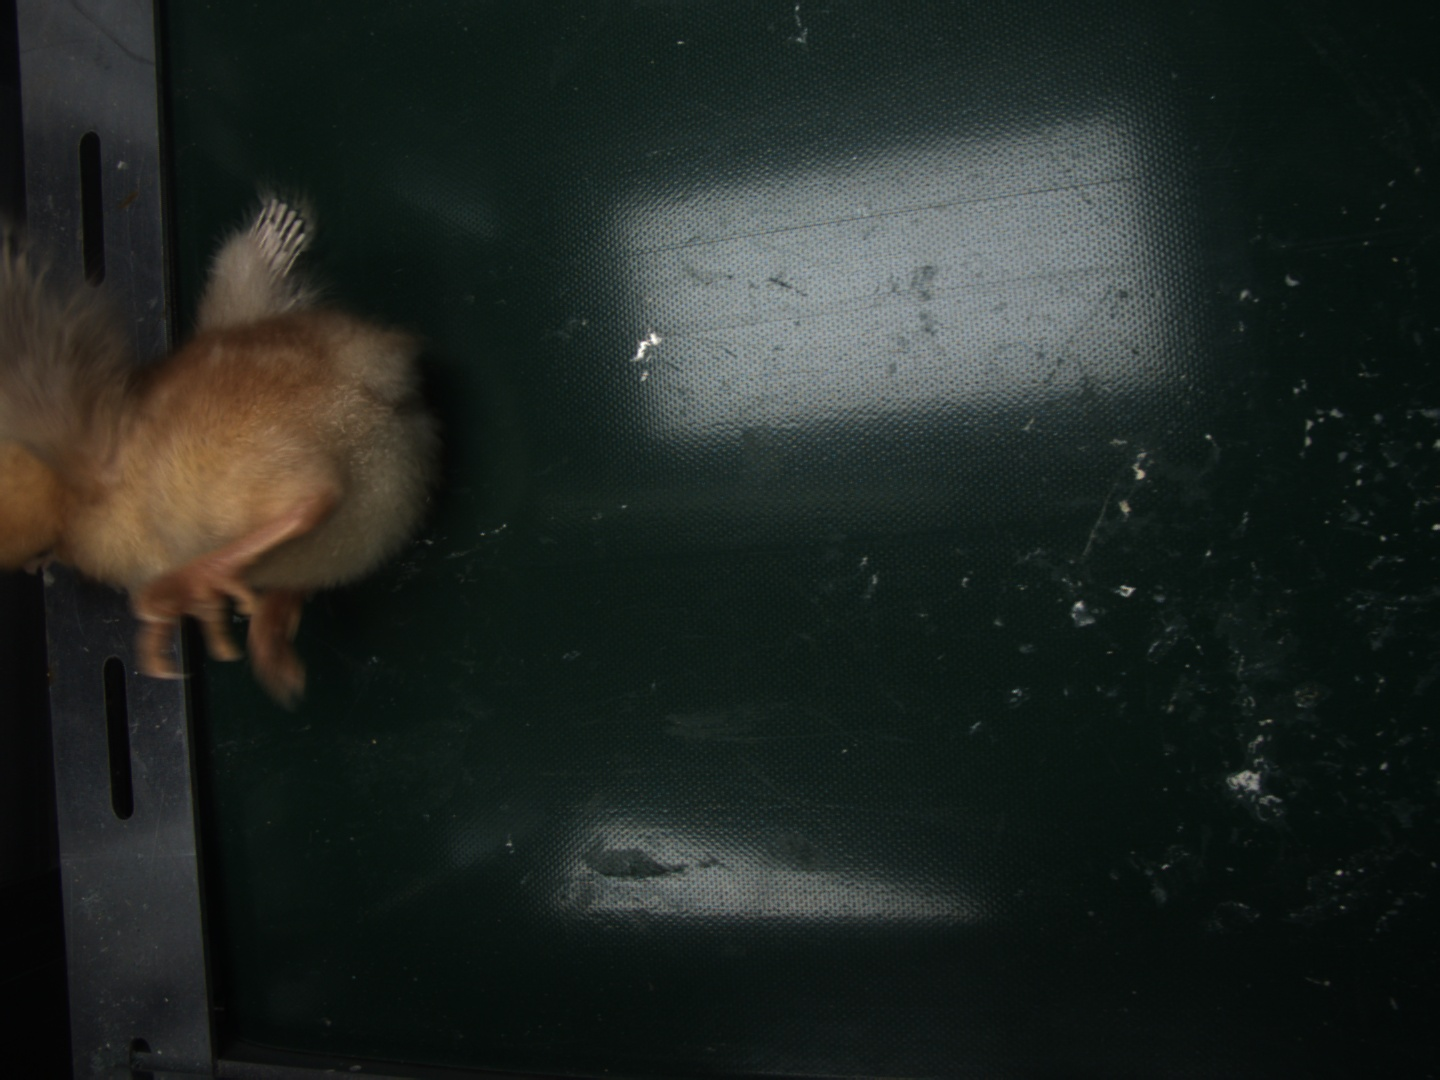female: (243, 197, 308, 278)
